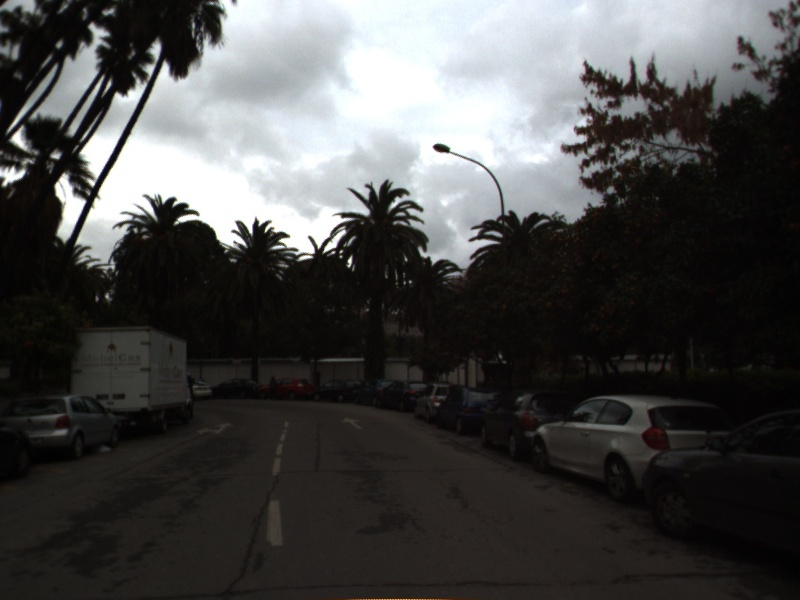STRAIGHT: (339, 415, 365, 431)
STRAIGHT_LEFT: (194, 421, 236, 437)
